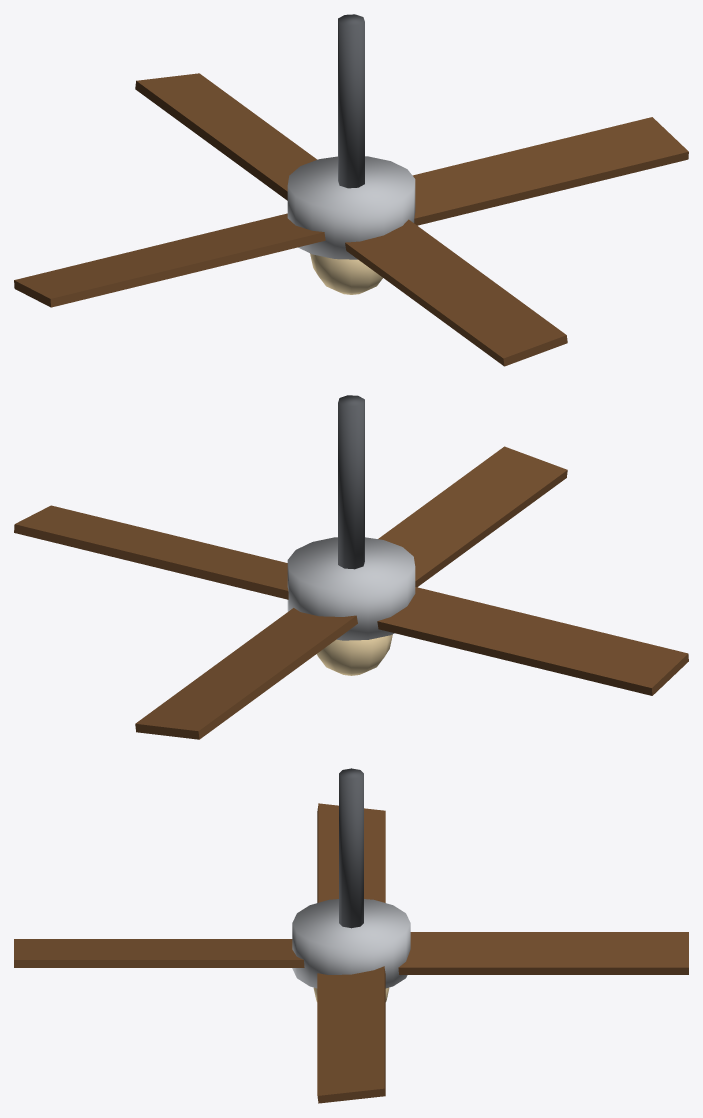
The model's file is ceiling_fan.glb.
3 renders of one model, top to bottom at view 1: azimuth 30°, elevation 25°; view 2: azimuth 150°, elevation 25°; view 3: azimuth 270°, elevation 25°, orthographic. The views are drawn at different scales.
Parts seen in each view (by area): view 1: ceiling_fan; view 2: ceiling_fan; view 3: ceiling_fan.
Boxes of the visible parts, box(x1,y1,x2,y2) form: ceiling_fan: box(14, 14, 688, 366); ceiling_fan: box(14, 395, 688, 739); ceiling_fan: box(14, 768, 688, 1103).
Bounding box in the file's own units: 1.6 × 0.65 × 1.6.
Materials: 1 (1 with a texture image).
